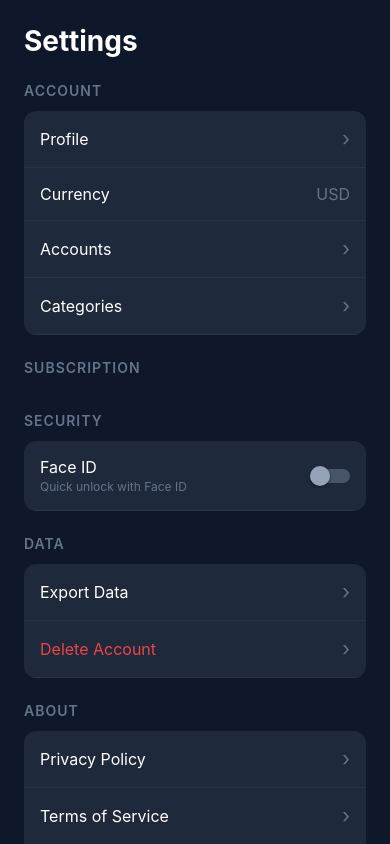
Scenario: SettingsScreen › Biometric Toggle › shows loading indicator when toggling biometric
The image size is (390, 844).
Click the switch with test id "biometric-switch".
click(330, 476)  # box 310,466 -> 350,486
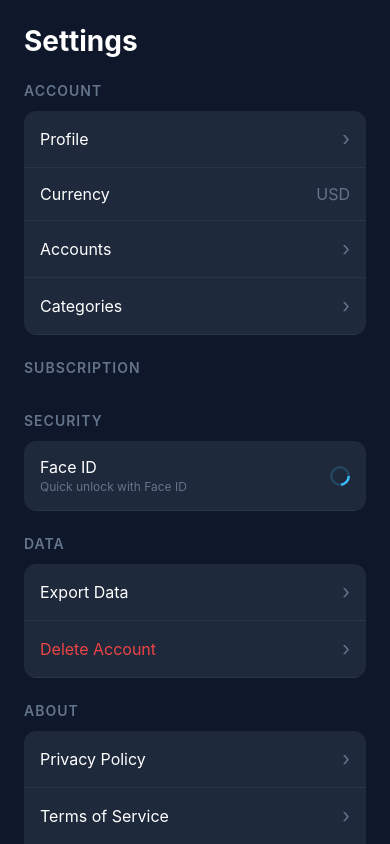
Result: the progress indicator with test id "biometric-loading" is shown at 330,466 -> 350,486
